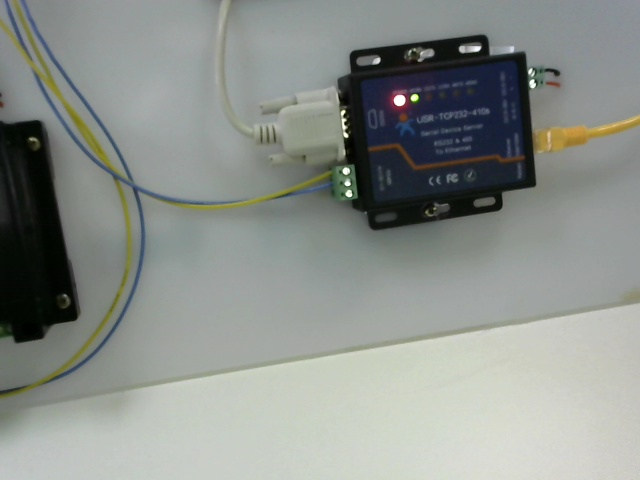termperature: (334, 31, 557, 231)
